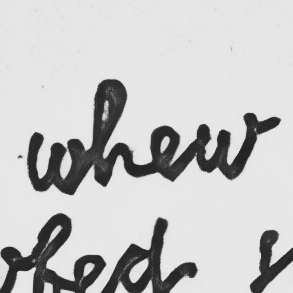e: (147, 123, 184, 184)
h: (88, 76, 140, 188)
w: (192, 109, 260, 181), (23, 129, 87, 197)
